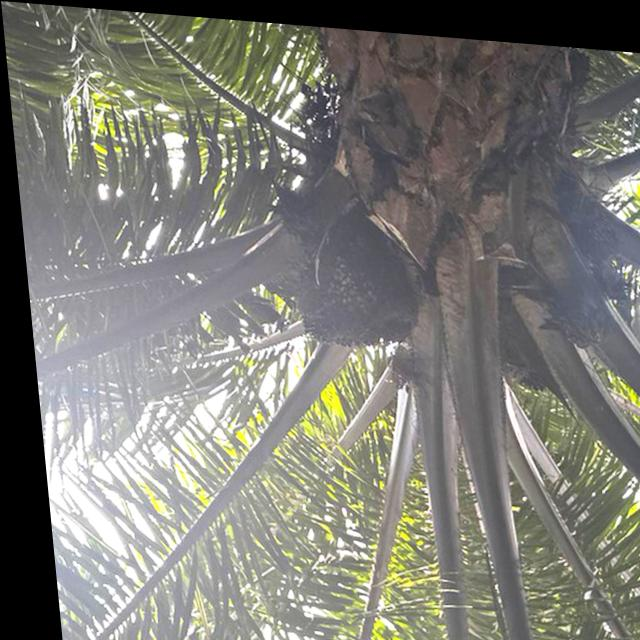unripe: (273, 203, 425, 356)
